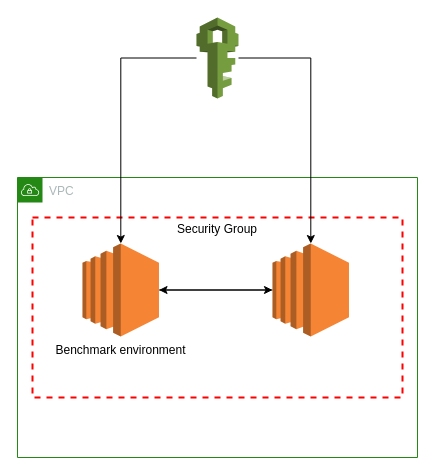
This 435x475 diagram has some shape labels left out. The box of each missing label's shape, as (x1, y1, x2, y2) in pixels:
Admin key: (196, 16, 238, 98)
Load generating environment: (272, 242, 349, 336)
